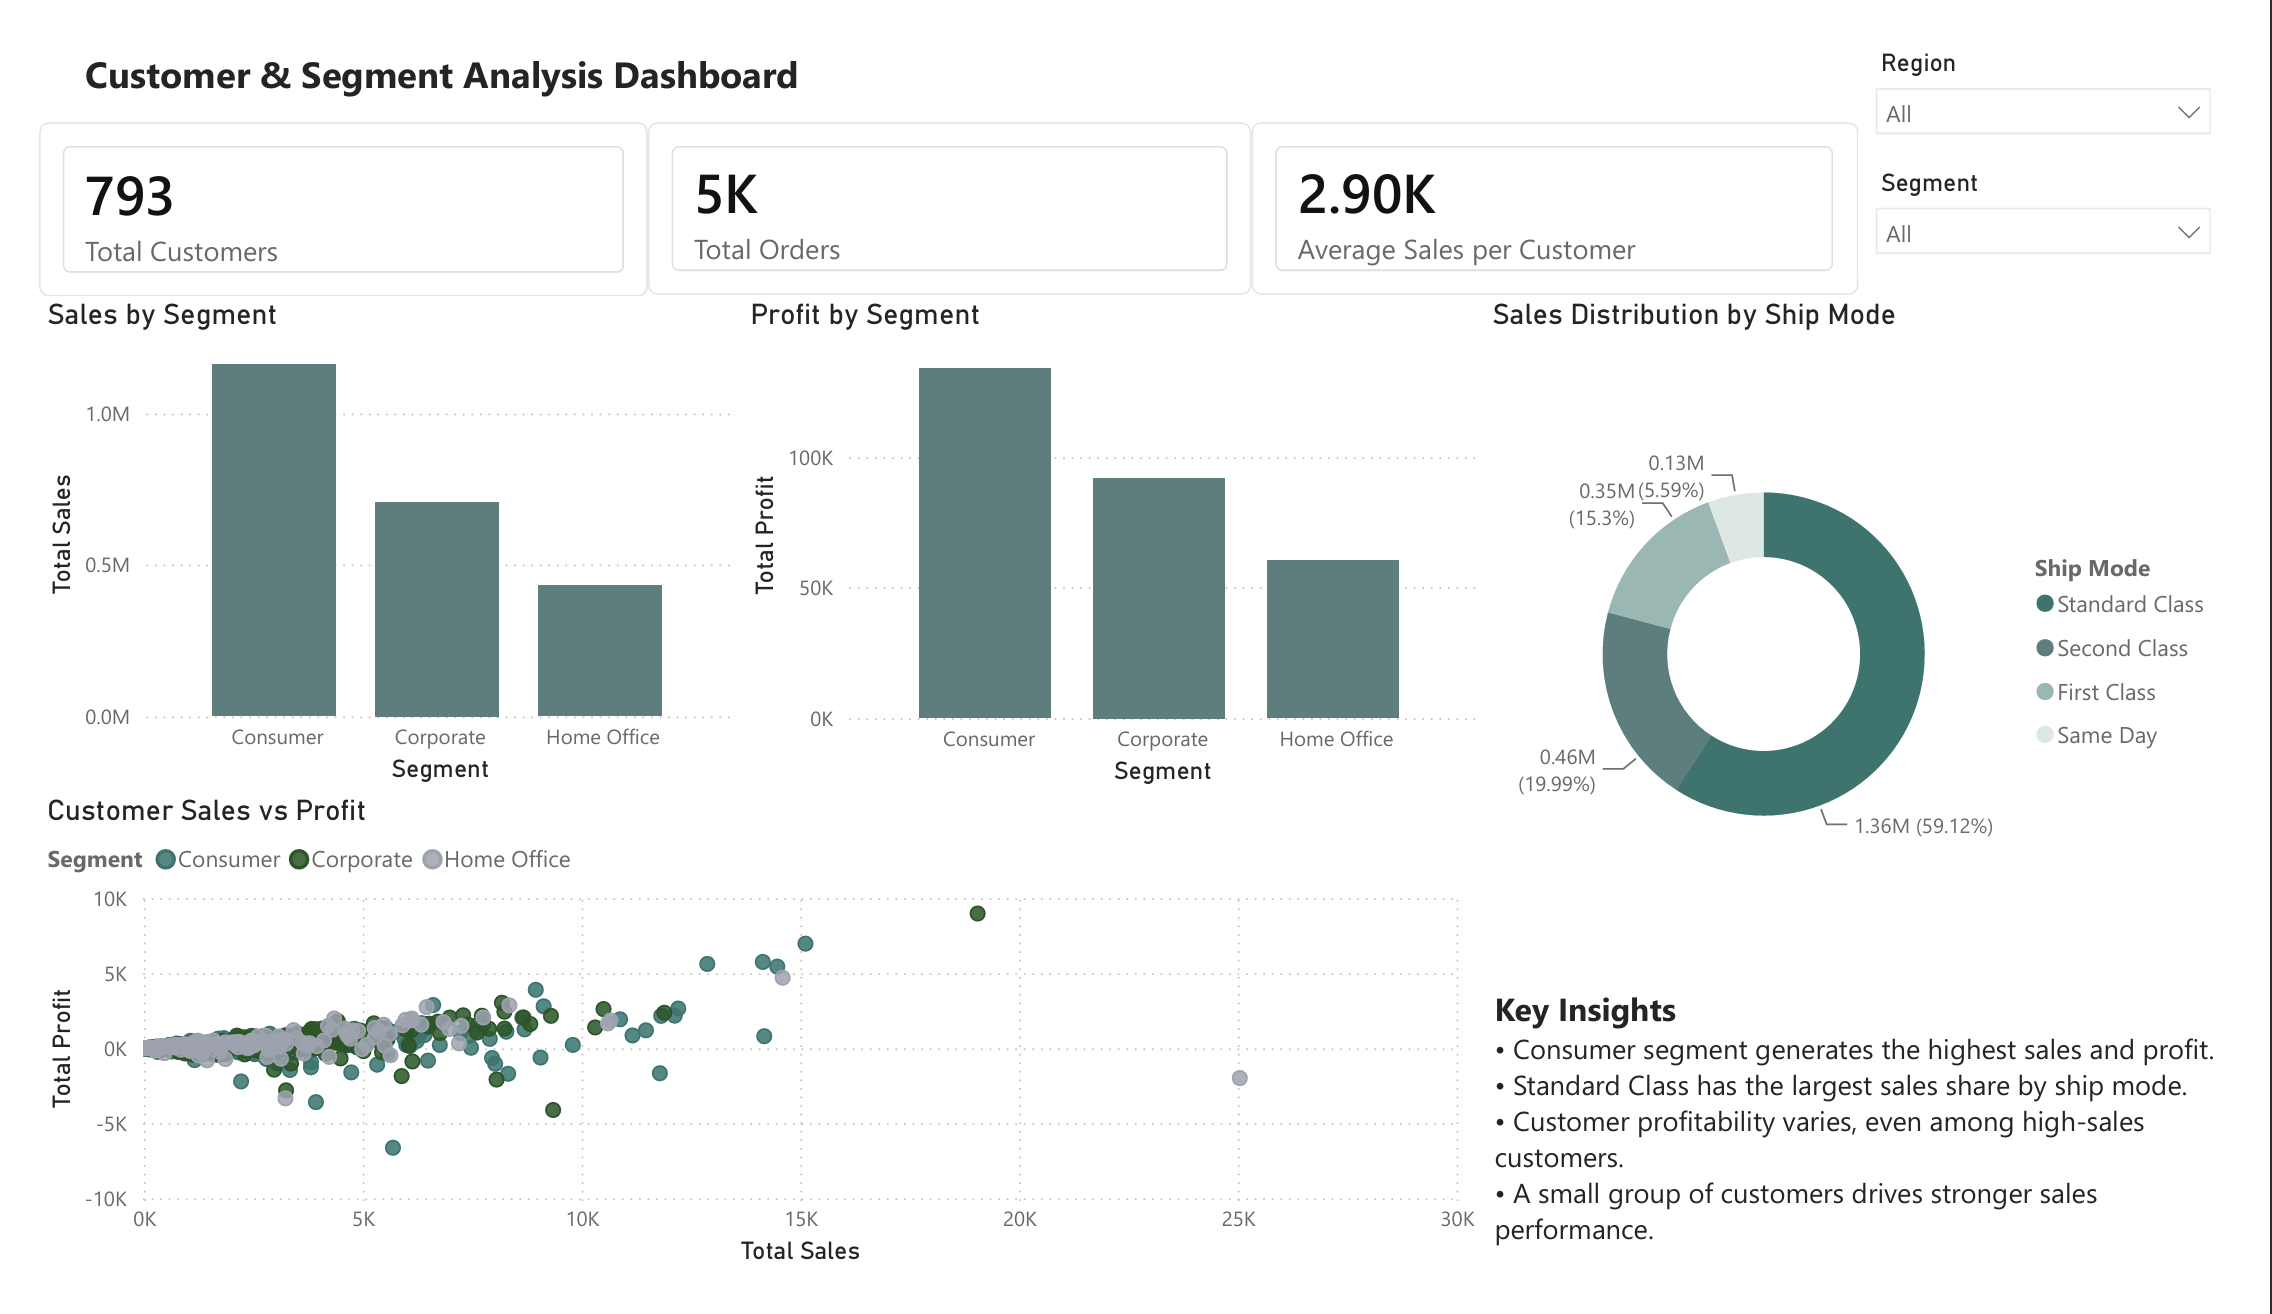

Layout of this report page (visuals, bound fields, positions):
{"tool":"powerbi","page":{"name":"Customer & Segment Analysis","canvas":[1280,720],"ordinal":2},"visuals":[{"type":"textbox","box":[21.5,0,442.1,69.5],"z":0},{"type":"cardVisual","fields":{"Data":["Orders.Total Customers"]},"box":[0,47.7,356.1,102.8],"z":1000},{"type":"cardVisual","fields":{"Data":["Orders.Total Orders"]},"box":[356.1,47.7,353.1,101.3],"z":2000},{"type":"cardVisual","fields":{"Data":["Orders.Average Sales per Customer"]},"box":[709.2,47.7,354.6,101.3],"z":3000},{"type":"slicer","fields":{"Values":["Orders.Segment"]},"box":[1063.7,70,216,70],"z":4000},{"type":"clusteredColumnChart","title":"Sales by Segment","fields":{"Category":["Orders.Segment"],"Y":["Sum(Orders.Sales)"]},"box":[0,150.5,411.2,287.5],"z":6000},{"type":"clusteredColumnChart","title":"Profit by Segment","fields":{"Category":["Orders.Segment"],"Y":["Sum(Orders.Profit)"]},"box":[411.2,150.5,433.5,289],"z":7000},{"type":"donutChart","title":"Sales Distribution by Ship Mode","fields":{"Category":["Orders.Ship Mode"],"Y":["Sum(Orders.Sales)"]},"box":[844.7,150.5,435,397.8],"z":8000},{"type":"scatterChart","title":"Customer Sales vs Profit","fields":{"X":["Sum(Orders.Sales)"],"Y":["Sum(Orders.Profit)"],"Series":["Orders.Segment"],"Category":["Orders.Customer Name"]},"box":[0,438.8,844.5,281.5],"z":9000},{"type":"textbox","box":[846.2,494.6,432,225],"z":10000},{"type":"textbox","box":[846.2,548.3,433.5,171.3],"z":11000},{"type":"slicer","fields":{"Values":["Orders.Region"]},"box":[1063.7,0,216,70],"z":11500}]}

Visuals, with their boxes in screenshot pixels (x1, y1, x2, y2), scaled from the page's 1280x720 canvas onto the 2272x1314 screenshot:
textbox: 38 0 823 127
cardVisual - Orders.Total Customers: 0 87 632 275
cardVisual - Orders.Total Orders: 632 87 1259 272
cardVisual - Orders.Average Sales per Customer: 1259 87 1888 272
slicer - Orders.Segment: 1888 128 2271 256
"Sales by Segment" clusteredColumnChart: 0 275 730 799
"Profit by Segment" clusteredColumnChart: 730 275 1499 802
"Sales Distribution by Ship Mode" donutChart: 1499 275 2271 1001
"Customer Sales vs Profit" scatterChart: 0 801 1499 1313
textbox: 1502 903 2269 1313
textbox: 1502 1001 2271 1313
slicer - Orders.Region: 1888 0 2271 128
